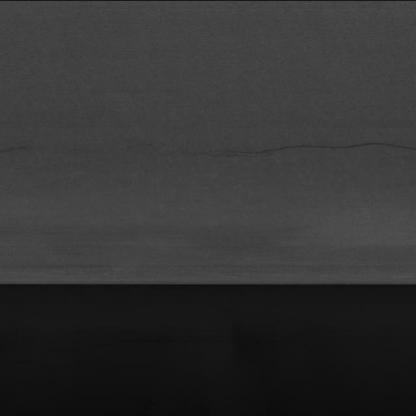water_spot: (217, 129, 407, 163)
